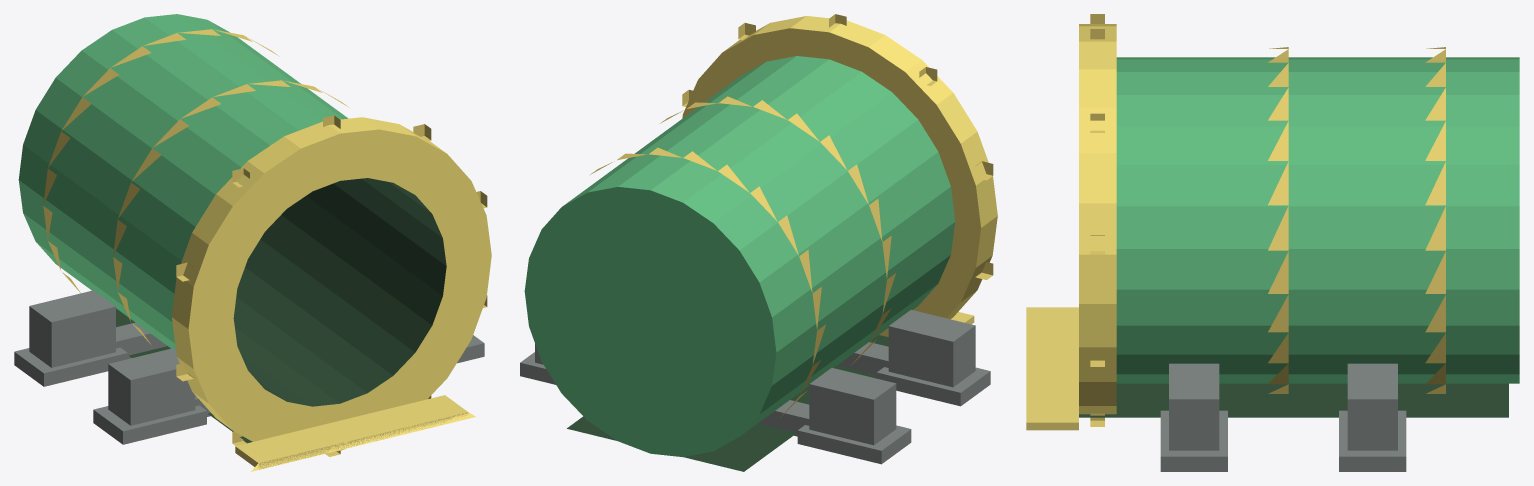
File: entrance_pipe.gltf
3 views of the same model, side by side, from view 1: azimuth 30°, elevation 25°; view 2: azimuth 150°, elevation 25°; view 3: azimuth 270°, elevation 25° (orthographic). The views are drawn at different scales.
Visible parts, largest first — view 1: Entrance_Pipe_Geometry; view 2: Entrance_Pipe_Geometry; view 3: Entrance_Pipe_Geometry.
Boxes of the visible parts, x1=… form: Entrance_Pipe_Geometry: x1=14, y1=14, x2=491, y2=471; Entrance_Pipe_Geometry: x1=520, y1=14, x2=997, y2=471; Entrance_Pipe_Geometry: x1=1026, y1=14, x2=1519, y2=471.
Bounding box in the file's own units: 2.24 × 1.98 × 2.35.
